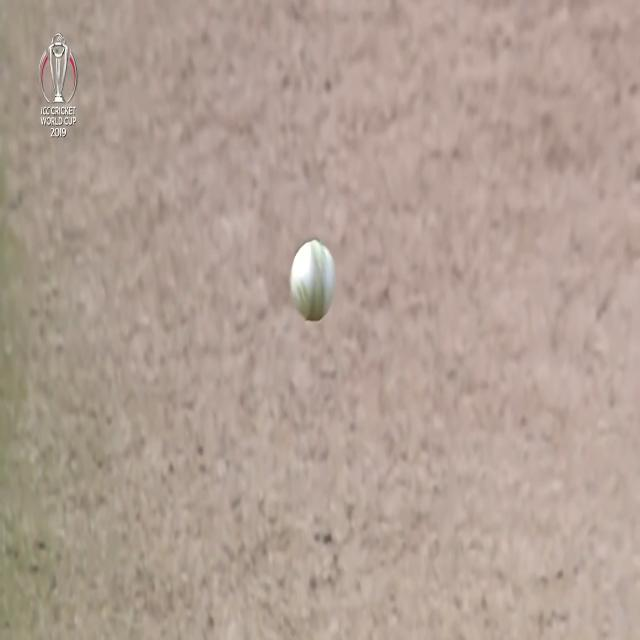Cricket ball: (289, 237, 337, 323)
